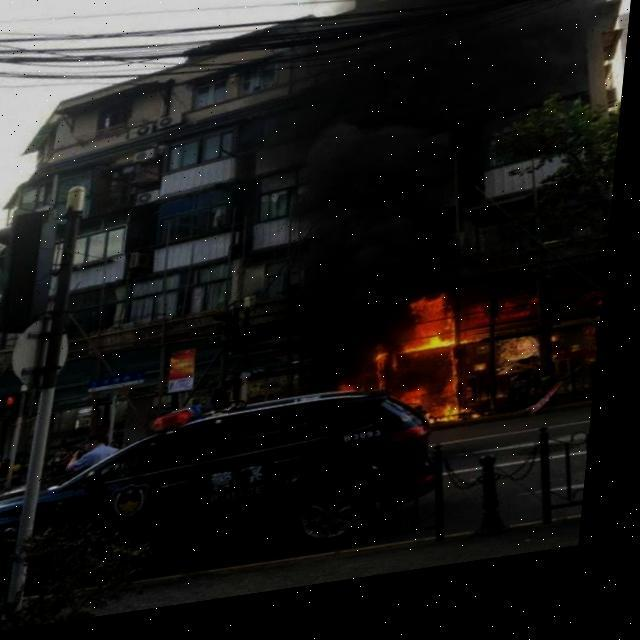Fire: (369, 295, 514, 450)
